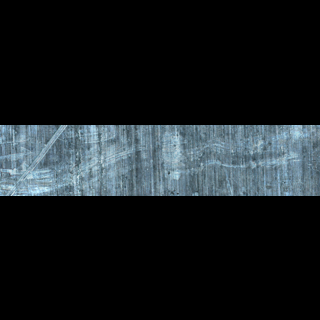d: (161, 133, 304, 166), (2, 124, 71, 192), (73, 124, 146, 173), (157, 131, 191, 183)
